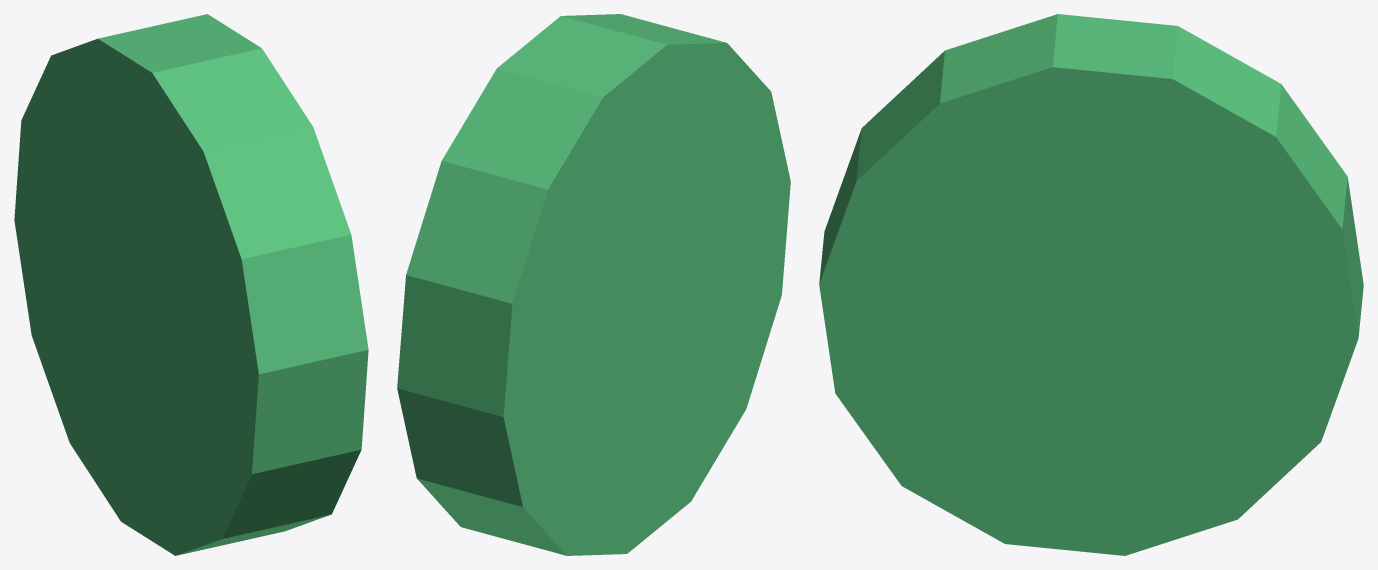
File: FrontLeftWheel.obj
The picture shows the model from 3 angles, left to right: view 1: azimuth 30°, elevation 25°; view 2: azimuth 150°, elevation 25°; view 3: azimuth 270°, elevation 25°; orthographic projection. The views are drawn at different scales.
Visible parts, largest first — view 1: Front_Left_Wheel; view 2: Front_Left_Wheel; view 3: Front_Left_Wheel.
Part boxes in pixels (x1=…): Front_Left_Wheel: x1=14, y1=14, x2=368, y2=555; Front_Left_Wheel: x1=397, y1=14, x2=790, y2=555; Front_Left_Wheel: x1=819, y1=14, x2=1363, y2=555.
Bounding box in the file's own units: 0.047 × 0.1694 × 0.1716.
